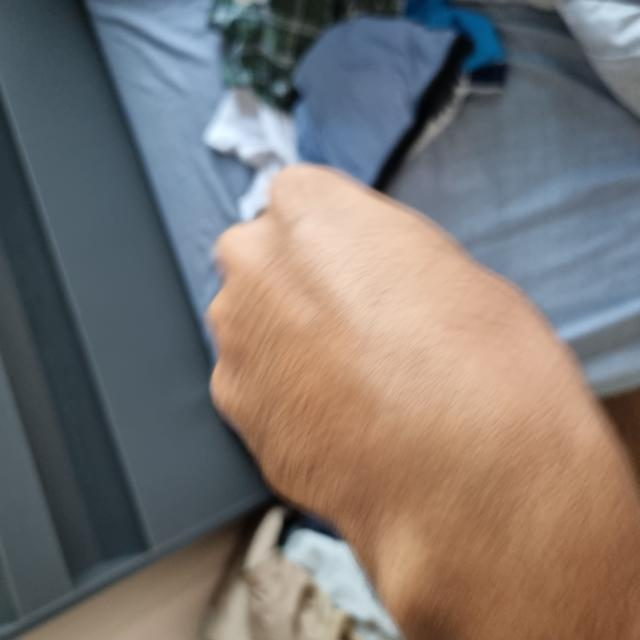Rock: (72, 206, 476, 602)
